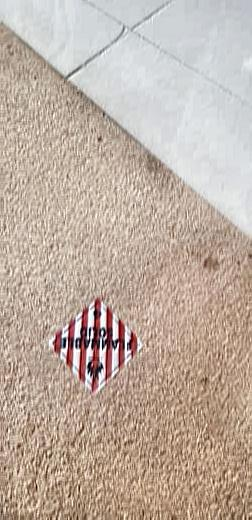flammable-solid: (46, 299, 142, 395)
